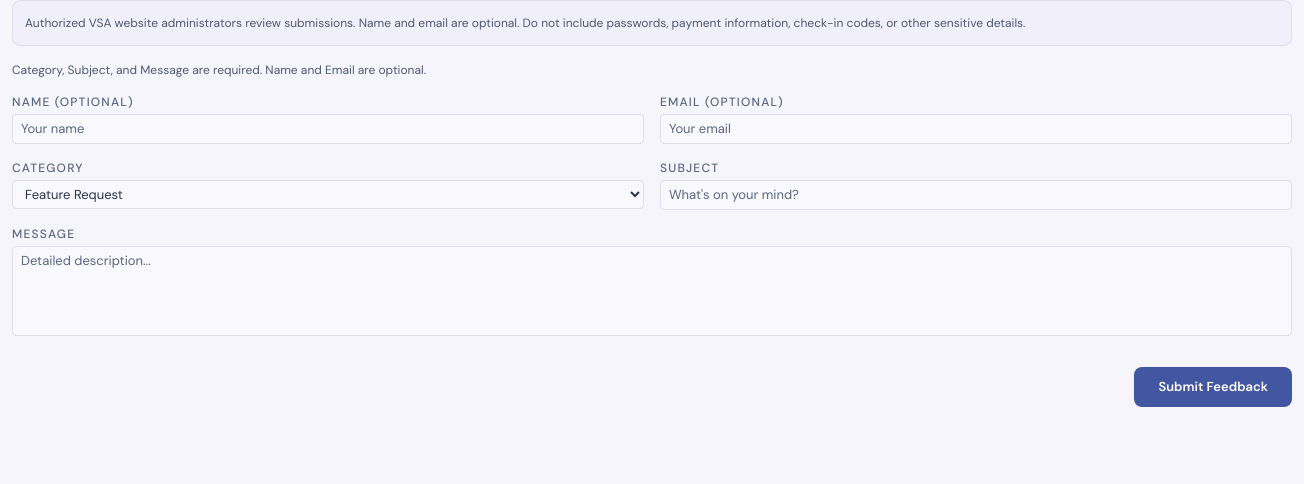
Test case: shows a controlled rejection, preserves input and never announces success
Type "Feedback subject" into the field labelled "Subject" at (976, 195), box [660,180,1292,210]
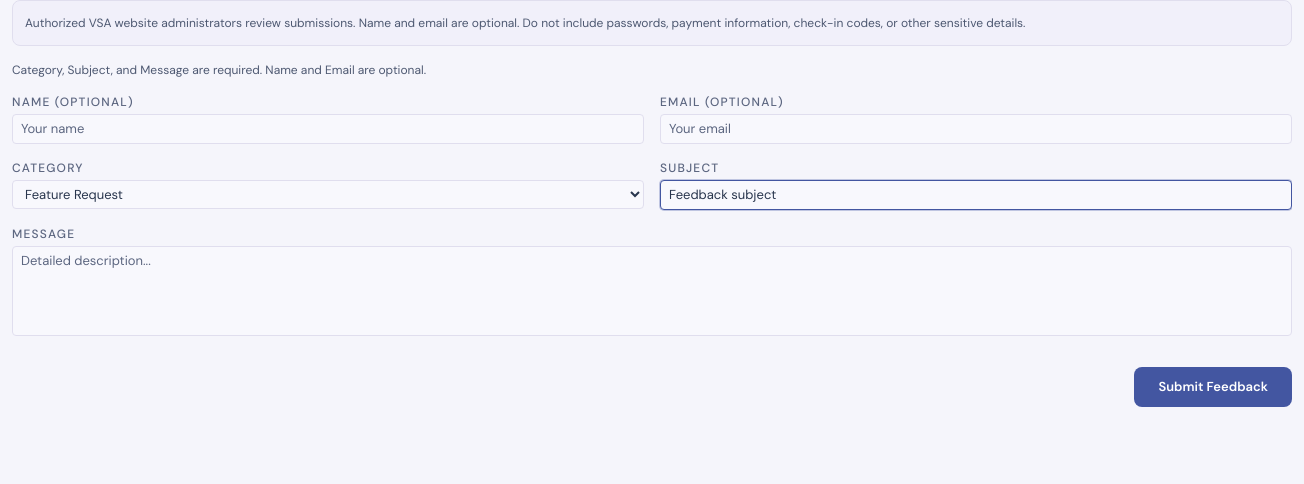
Type "Feedback details" into the text box labelled "Message" at (652, 291), box [12,246,1292,336]
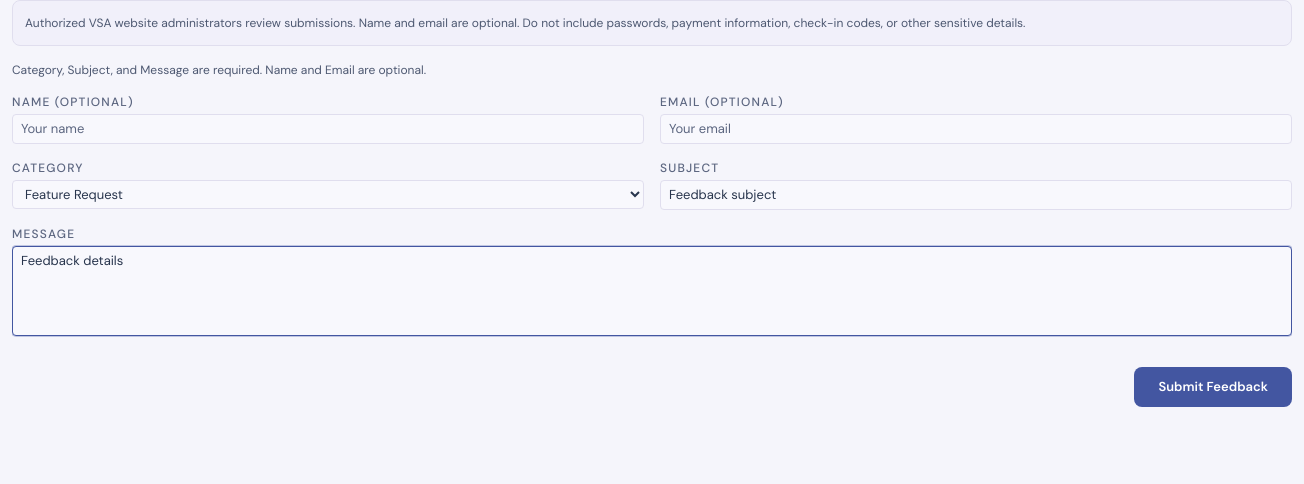
Click the button "Submit Feedback" at (1213, 387), box [1134,367,1292,406]
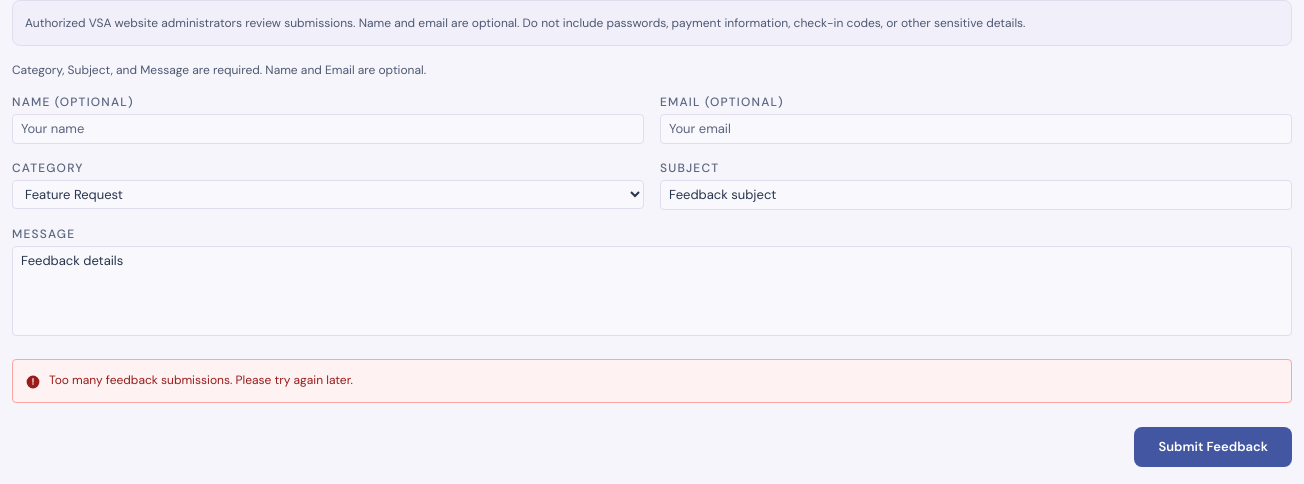
Result: the text "Too many feedback submissions. Please try again later." is shown at [49,372,353,388]
